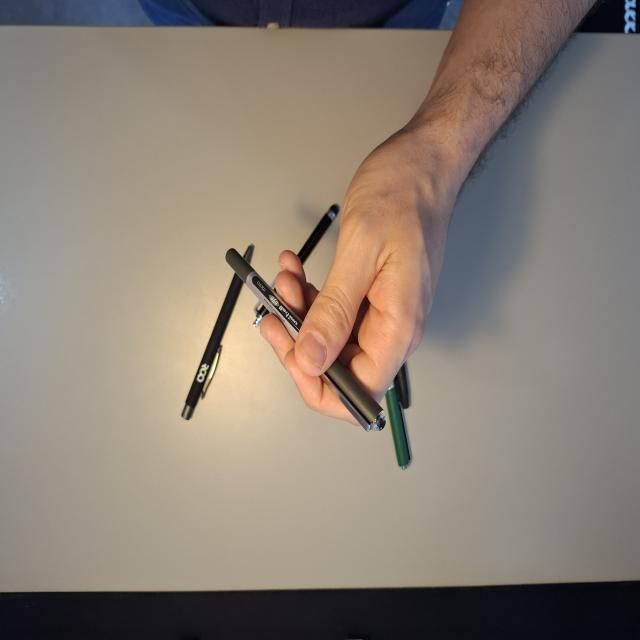glove_off: (257, 127, 468, 429)
